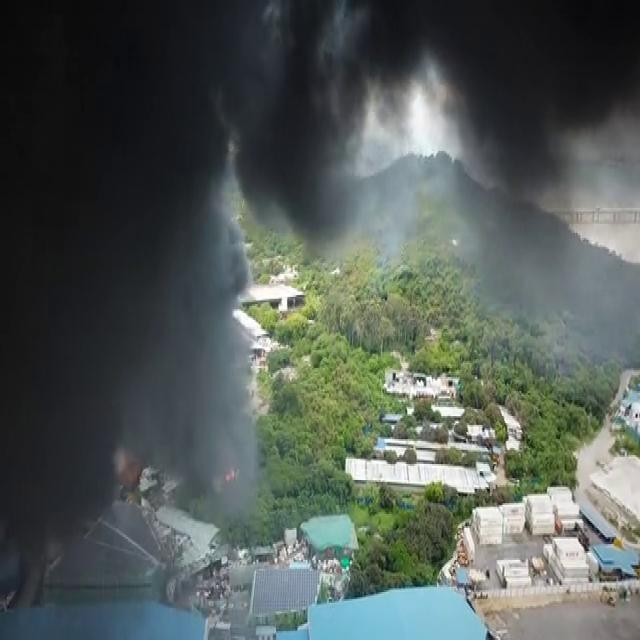smoke: (1, 3, 208, 451), (454, 8, 639, 230), (211, 5, 365, 239), (371, 8, 449, 148), (215, 252, 255, 512), (5, 458, 111, 520)
